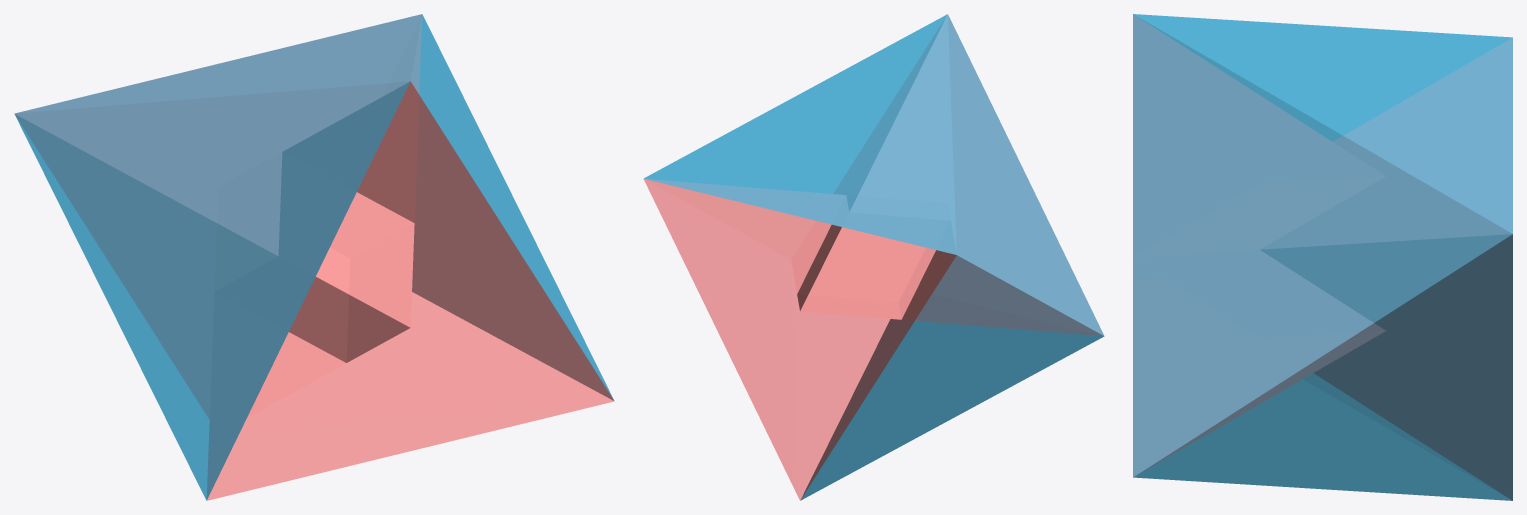
Rendered from 26_Diexcavated_Octahedron.obj.
The picture shows the model from 3 angles, left to right: view 1: azimuth 30°, elevation 25°; view 2: azimuth 150°, elevation 25°; view 3: azimuth 270°, elevation 25°; orthographic projection. The views are drawn at different scales.
Size of the model in its own units: 1 by 1.15 by 0.8165.
